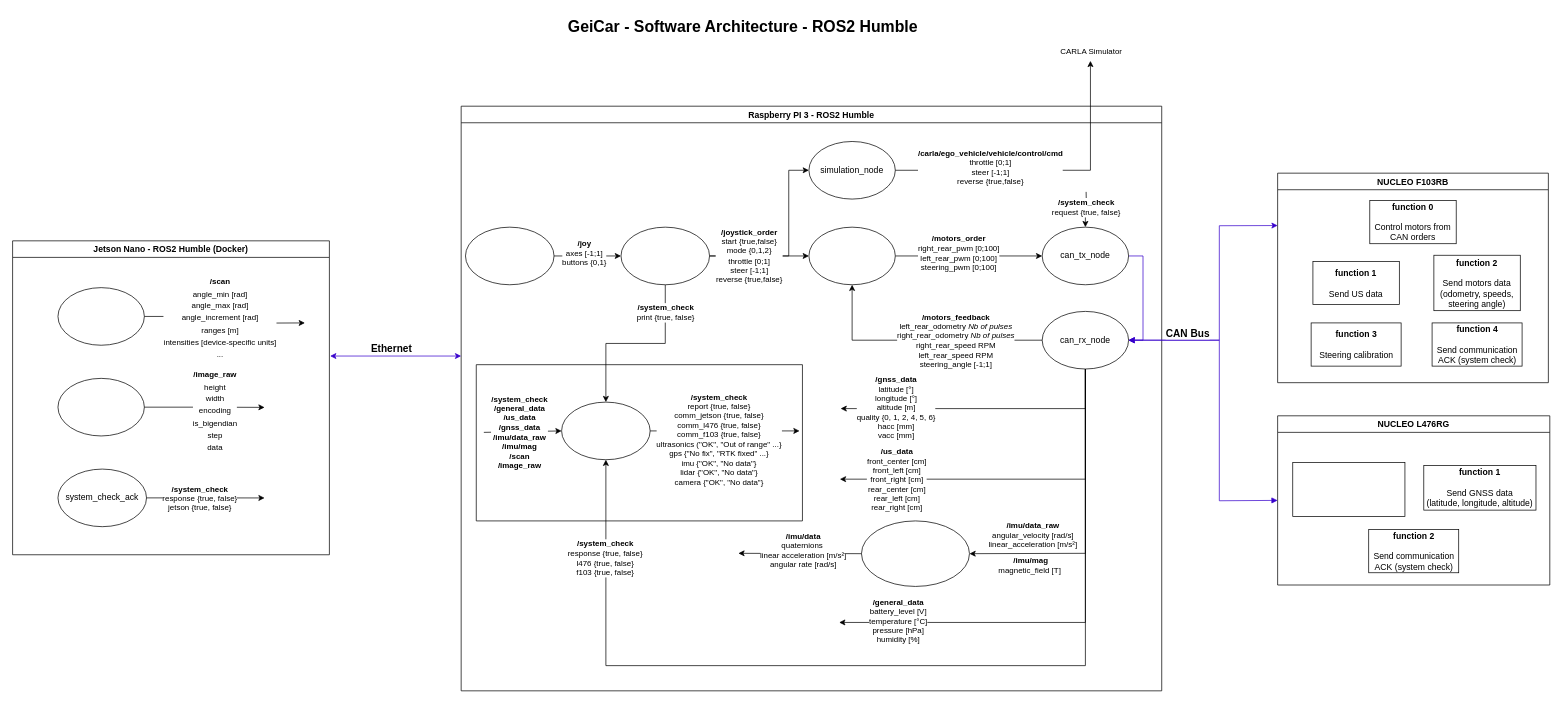
The diagram is 1562 pixels wide and 703 high, and some of its shapes have lost their labels. Here are the shapes that lost their labels. From the top down, the centre of each, then its label:
At pixel 509 255: "joystick_ros2".
At pixel 665 255: "joystick_to_cmd_node".
At pixel 851 255: "car_control_node".
At pixel 100 316: "rplidar_ros".
At pixel 100 407: "usb_cam_node_exe".
At pixel 605 430: "system_check".
At pixel 1348 489: "function 0 Send IMU data (magnetic, angular rate, linear acceleration)".
At pixel 915 553: "imu_filter_madgwick or imu_complementary_filter".
